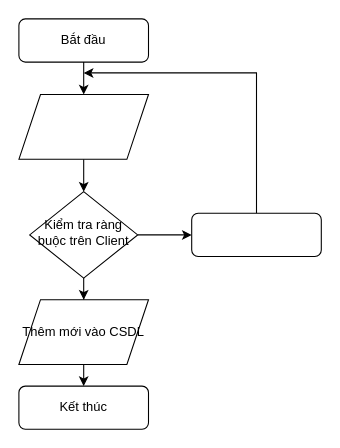
The diagram is 340 pixels wide and 448 high, and some of its shapes have lost their labels. Here are the shapes that lost their labels. From the top down, the centre of each, then its label:
the point at 83,126: Nhập thông tin đăng ký
the point at 256,234: Thông báo lỗi
